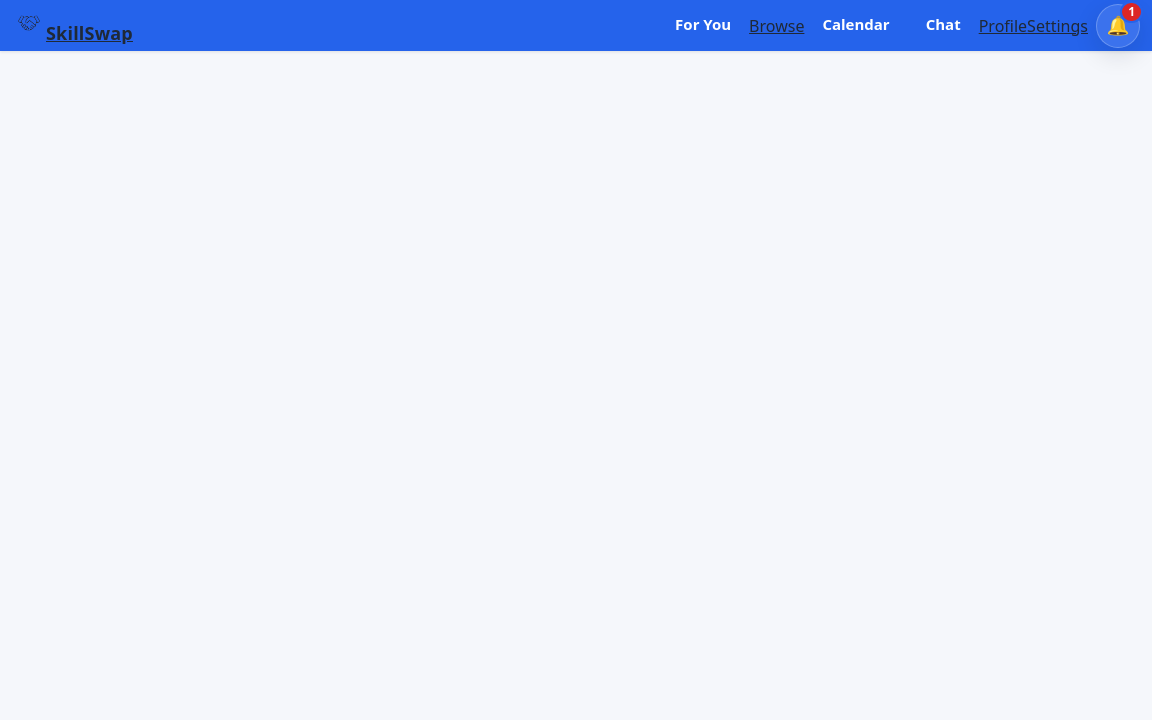
Test: NavBar Component › shows pending swap notifications in the selected timezone
This screenshot has width=1152, height=720.
What coordinates should you click on to do the following:
click the button named "Open notifications"
I would click on:
 (1118, 26)
Its box is [1096,4,1140,48].
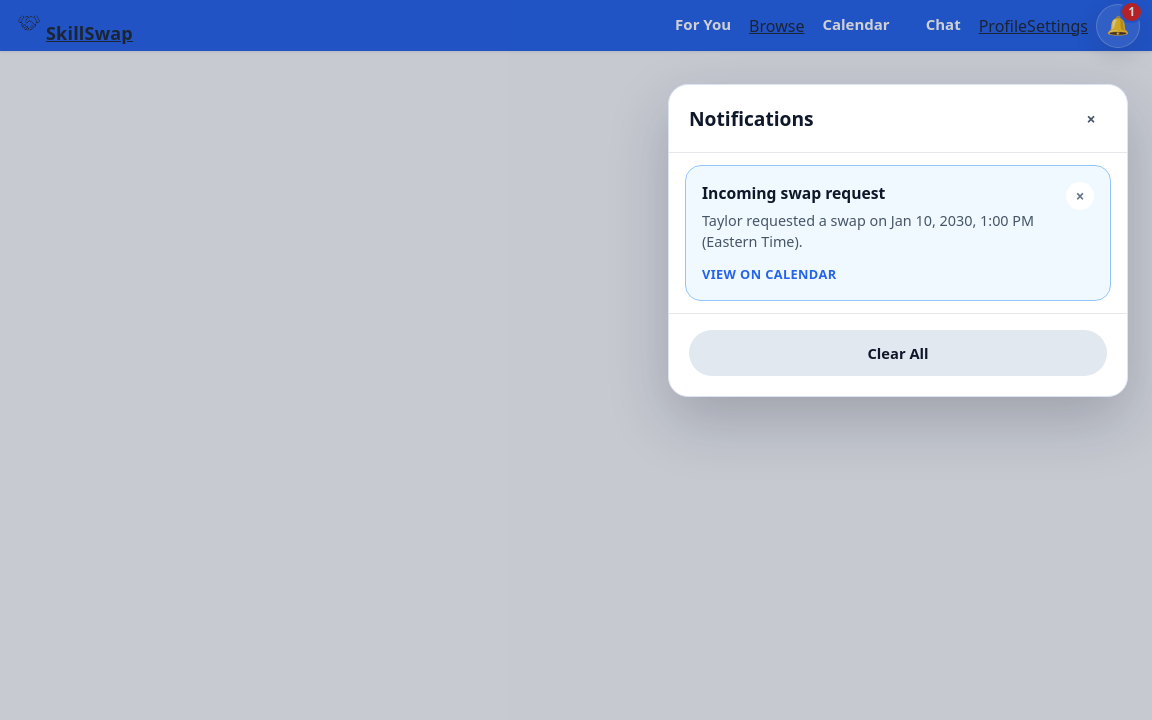
Expected: the text "Taylor requested a swap on Jan 10, 2030, 1:00 PM (Eastern Time)." is shown, [702,210,1052,253]
